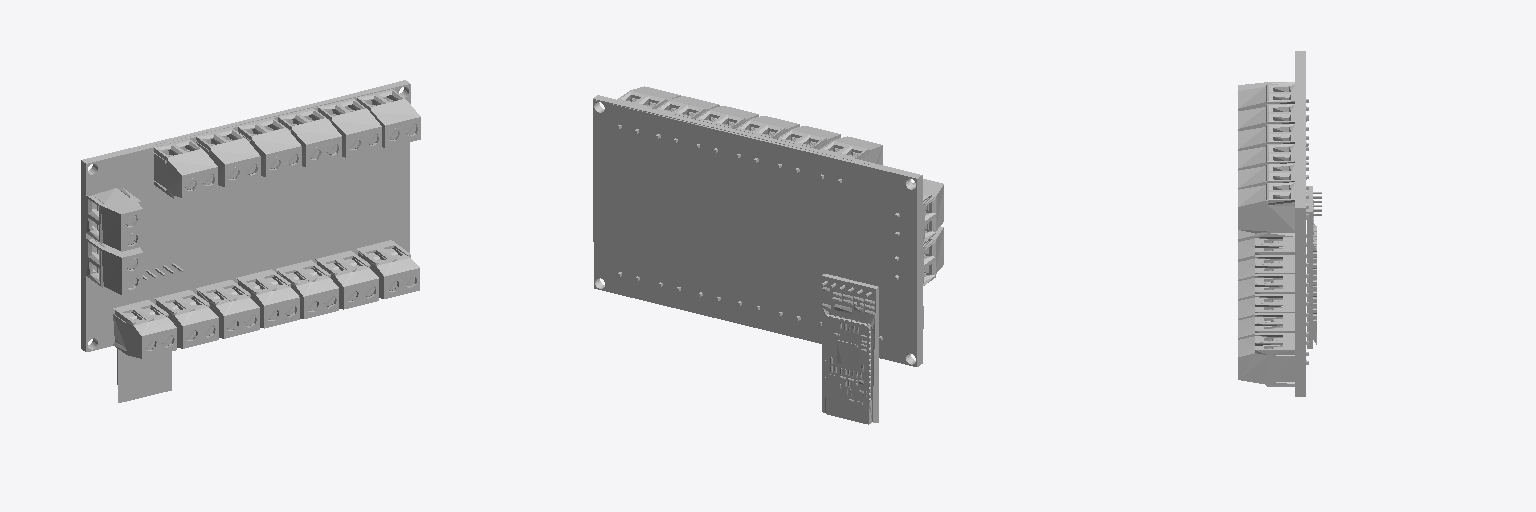
File: OBJ_PCB_Kit Sumo Bot Final_2.obj
3 renders of one model, left to right at view 1: azimuth 30°, elevation 25°; view 2: azimuth 150°, elevation 25°; view 3: azimuth 270°, elevation 25°, orthographic.
Size of the model in its own units: 363 by 271 by 80.76.